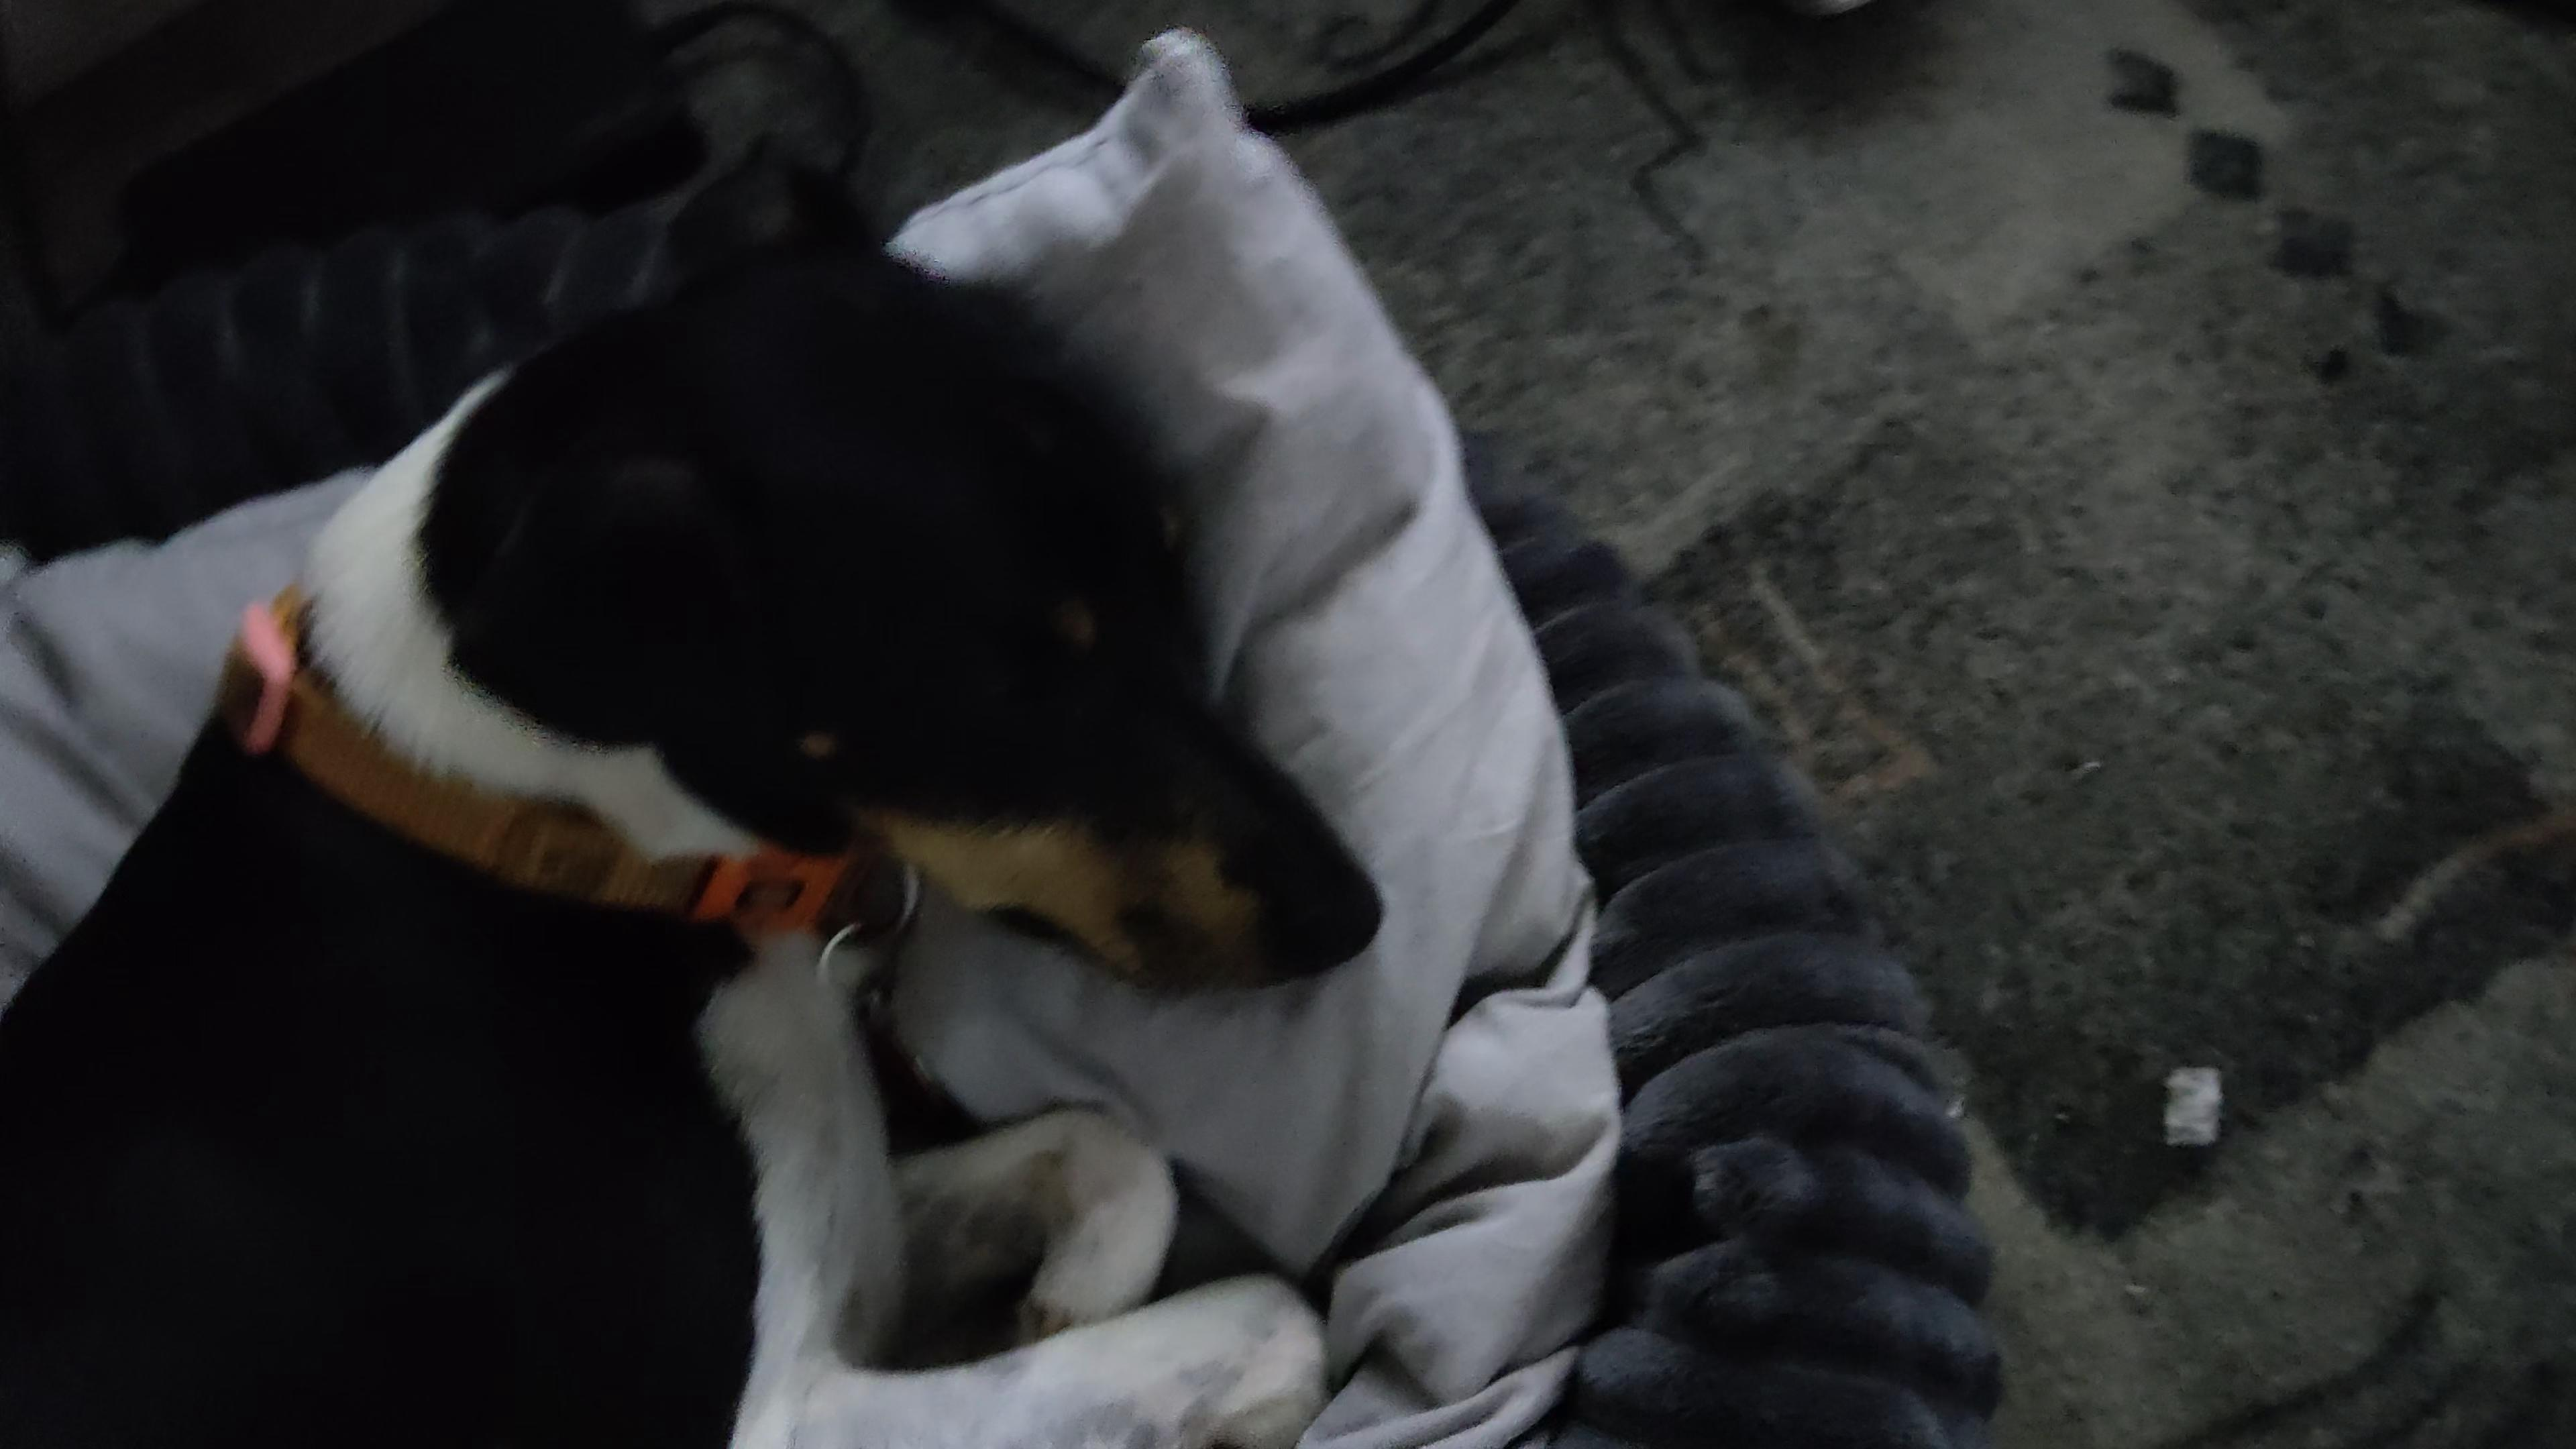Dog: (0, 133, 1403, 1449)
